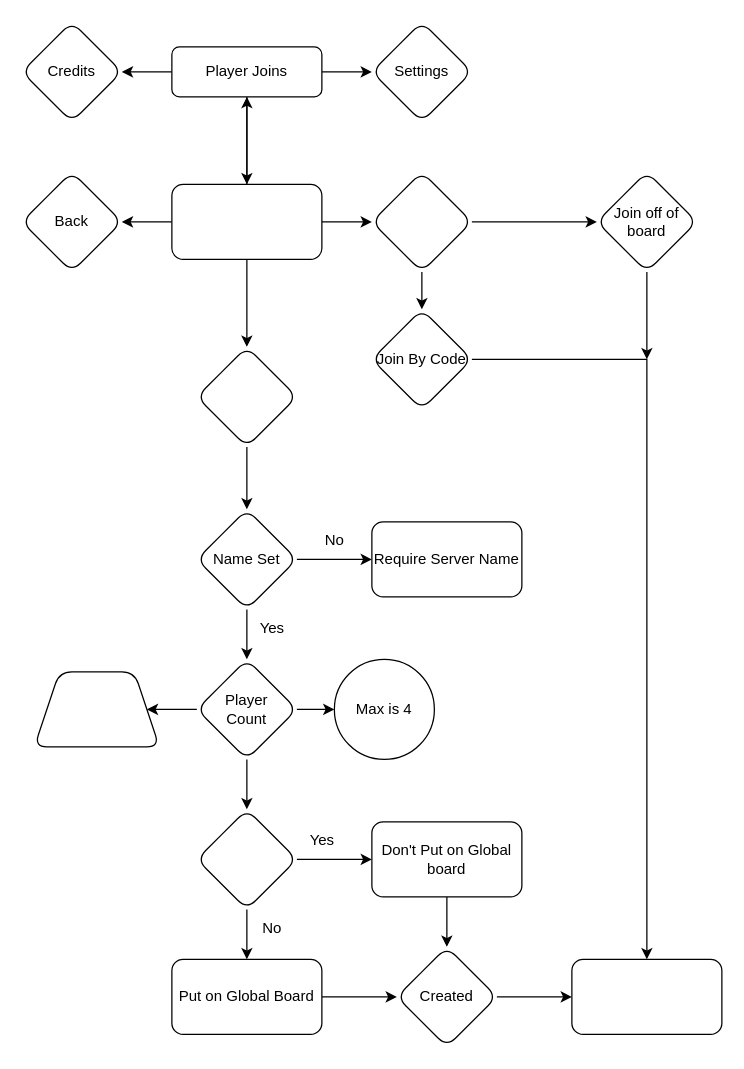
Some shapes in this 744 by 1069 pixel diagram are drawn without their labels. Each missing label, with the box of its shape:
Create: (196, 346, 297, 447)
Default Is 1: (33, 671, 159, 747)
Join: (371, 171, 472, 272)
Play: (171, 183, 322, 259)
Private?: (196, 808, 297, 909)
Teleport Player to Server: (571, 958, 722, 1034)
